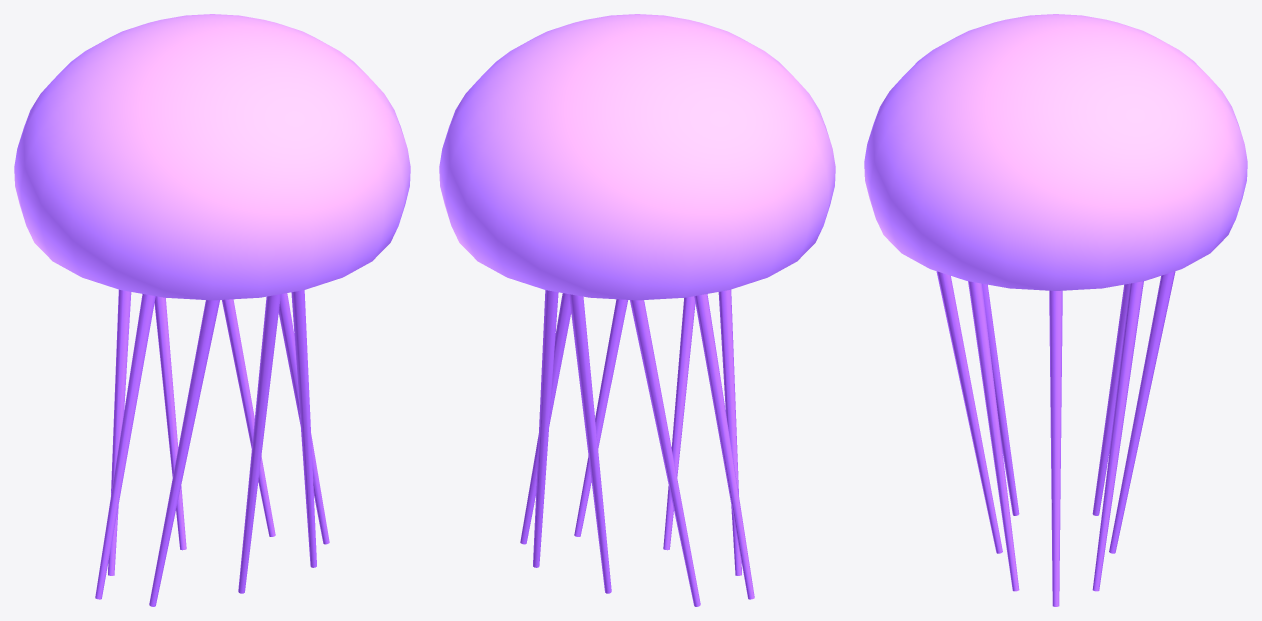
Rendered from jellyfish.glb.
The picture shows the model from 3 angles, left to right: view 1: azimuth 30°, elevation 25°; view 2: azimuth 150°, elevation 25°; view 3: azimuth 270°, elevation 25°; orthographic projection. The views are drawn at different scales.
Size of the model in its own units: 0.9192 by 1.36 by 0.9192.
